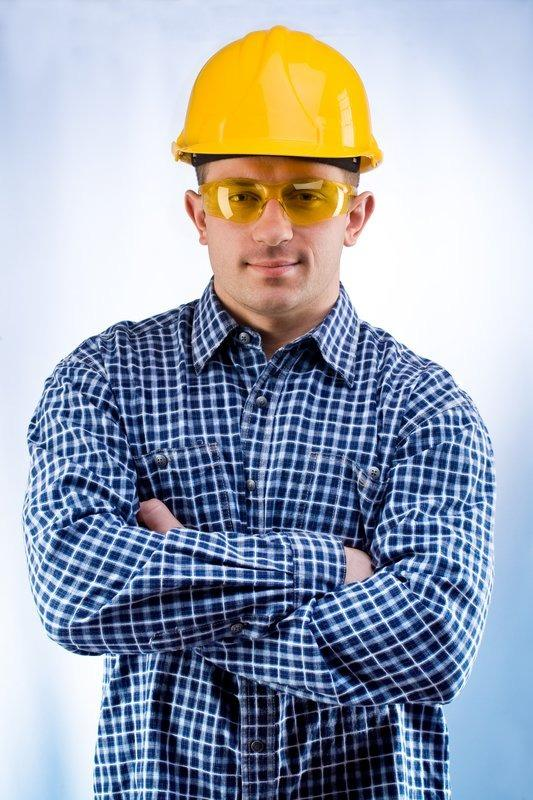helmet: (172, 26, 385, 175)
